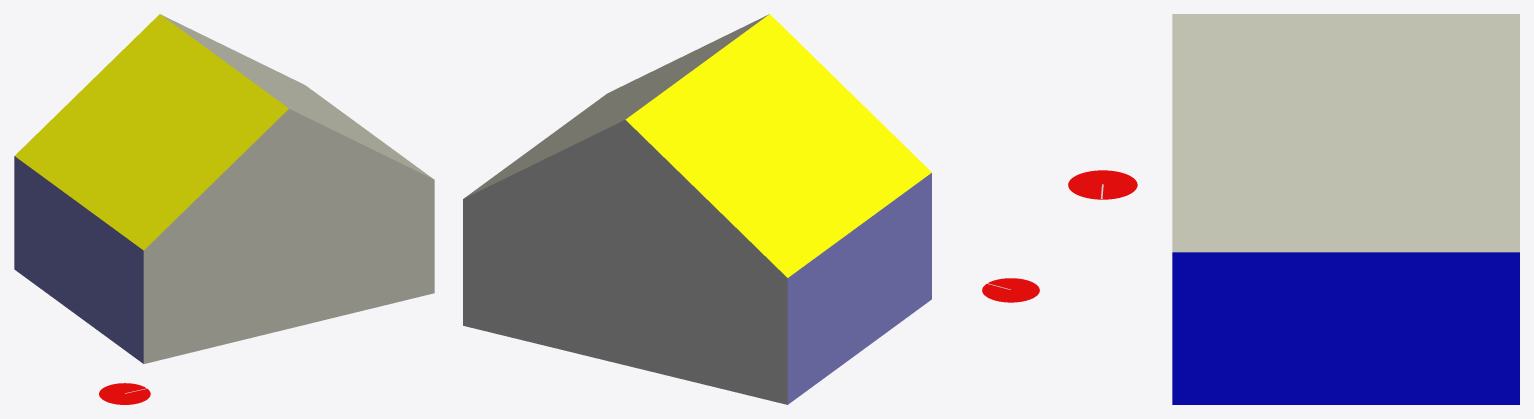
File: result.glb
3 views of the same model, side by side, from view 1: azimuth 30°, elevation 25°; view 2: azimuth 150°, elevation 25°; view 3: azimuth 270°, elevation 25° (orthographic). The views are drawn at different scales.
Parts seen in each view (by area): view 1: 004d12a0-8ce4-44db-ba5b-c1d50a3e7294__undefined, 053925fa-6bf8-4418-8dc8-59c4fb5fbee9__undefined, 25d2688a-80da-499f-90d3-f504b8a6bd52__undefined, 568594df-de2f-4fe7-818b-4ea3f3b7e535__undefined, 1014cc4b-7463-4d13-b150-cf3f65cf7c2c__Circle; view 2: 22242d2c-e929-4e07-ba8e-f745eaebda7c__undefined, 053925fa-6bf8-4418-8dc8-59c4fb5fbee9__undefined, 25d2688a-80da-499f-90d3-f504b8a6bd52__undefined, 568594df-de2f-4fe7-818b-4ea3f3b7e535__undefined, 1014cc4b-7463-4d13-b150-cf3f65cf7c2c__Circle; view 3: 568594df-de2f-4fe7-818b-4ea3f3b7e535__undefined, 4bc646c8-5301-49d0-890f-27b8a5516b9f__undefined, 1014cc4b-7463-4d13-b150-cf3f65cf7c2c__Circle.
Boxes of the visible parts, x1,y1,x2,y2 form: 004d12a0-8ce4-44db-ba5b-c1d50a3e7294__undefined: [143, 108, 434, 363]; 053925fa-6bf8-4418-8dc8-59c4fb5fbee9__undefined: [15, 14, 288, 250]; 25d2688a-80da-499f-90d3-f504b8a6bd52__undefined: [14, 156, 143, 363]; 568594df-de2f-4fe7-818b-4ea3f3b7e535__undefined: [160, 14, 432, 178]; 1014cc4b-7463-4d13-b150-cf3f65cf7c2c__Circle: [99, 383, 150, 404]; 22242d2c-e929-4e07-ba8e-f745eaebda7c__undefined: [463, 119, 787, 404]; 053925fa-6bf8-4418-8dc8-59c4fb5fbee9__undefined: [625, 14, 931, 277]; 25d2688a-80da-499f-90d3-f504b8a6bd52__undefined: [787, 173, 931, 404]; 568594df-de2f-4fe7-818b-4ea3f3b7e535__undefined: [464, 14, 768, 198]; 1014cc4b-7463-4d13-b150-cf3f65cf7c2c__Circle: [982, 278, 1039, 302]; 568594df-de2f-4fe7-818b-4ea3f3b7e535__undefined: [1172, 14, 1519, 252]; 4bc646c8-5301-49d0-890f-27b8a5516b9f__undefined: [1172, 252, 1519, 404]; 1014cc4b-7463-4d13-b150-cf3f65cf7c2c__Circle: [1068, 170, 1137, 199].
Size of the model in its own units: 799 by 469 by 650.
